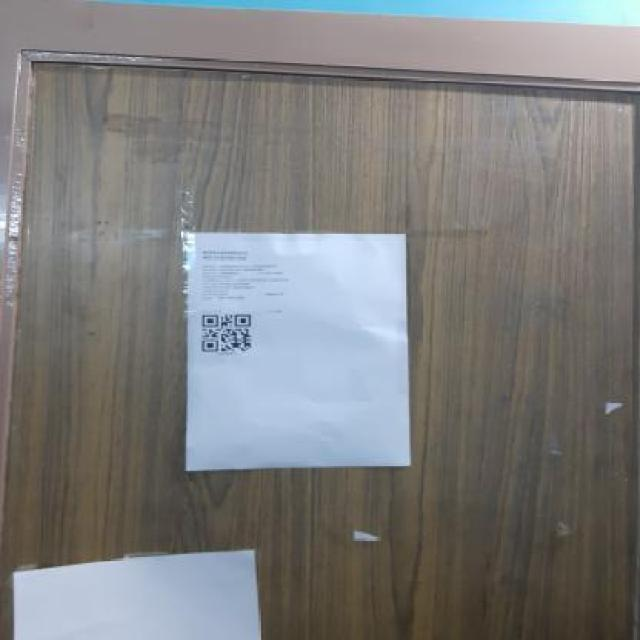box: (12, 549, 262, 639)
